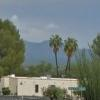Tree: (38, 28, 100, 73)
